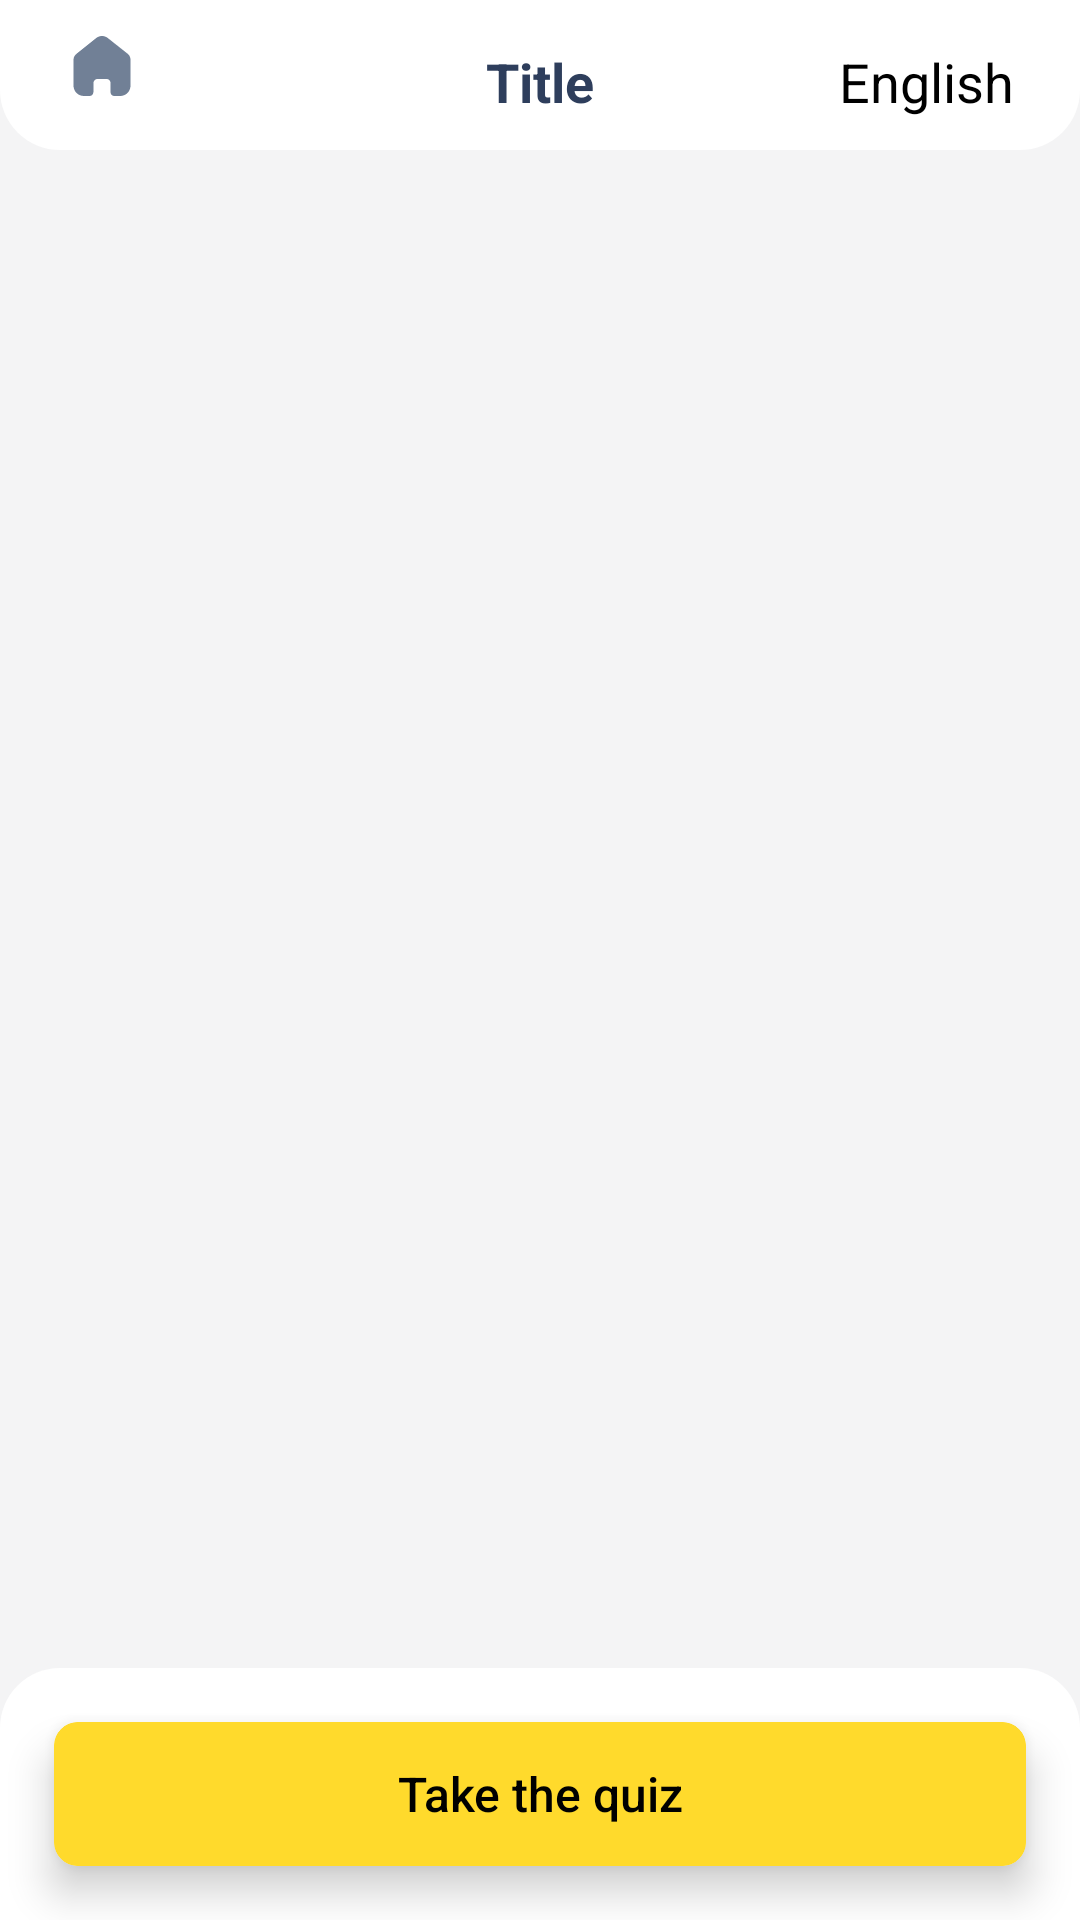

Icons on this 1080 x 1920 Android screen, each with the point to tap as (x,y):
english home: (102,66)
